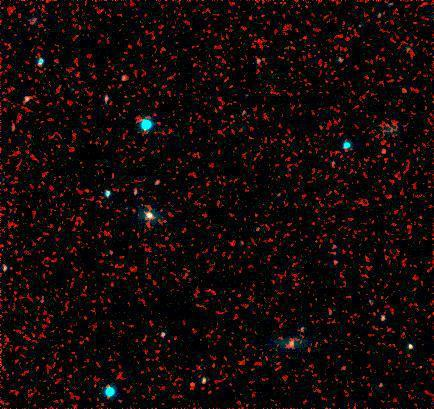star: (367, 132, 397, 162)
